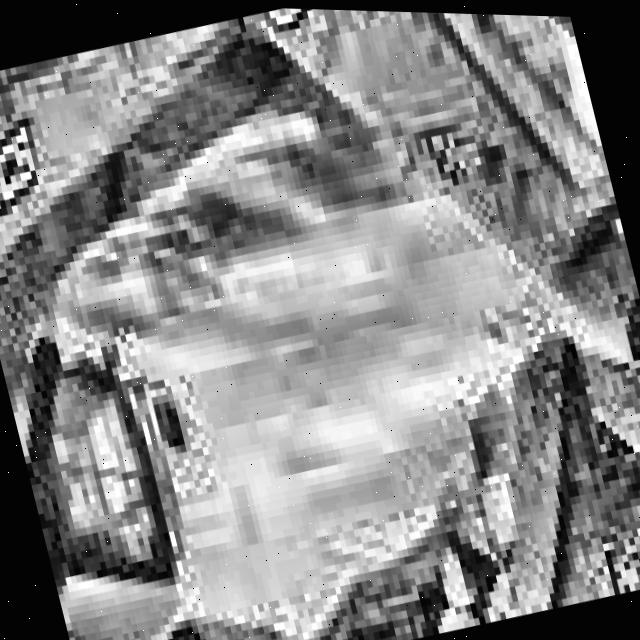excavator: (0, 169, 335, 640)
